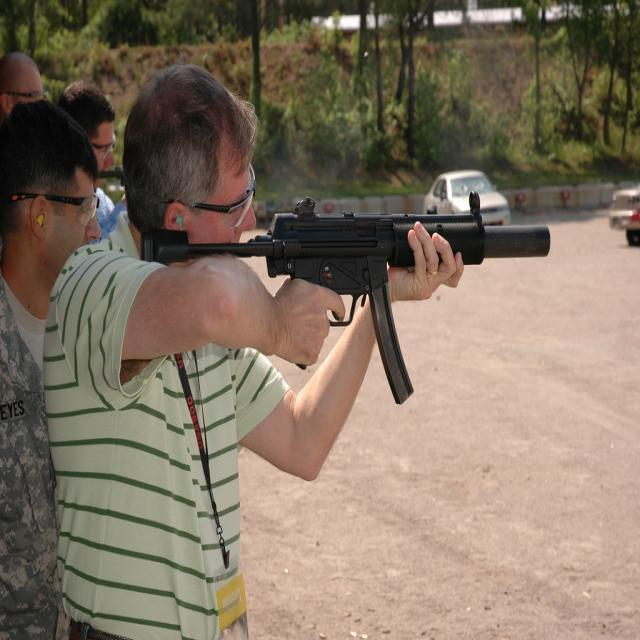weapon: (141, 198, 549, 399), (96, 168, 125, 188)
